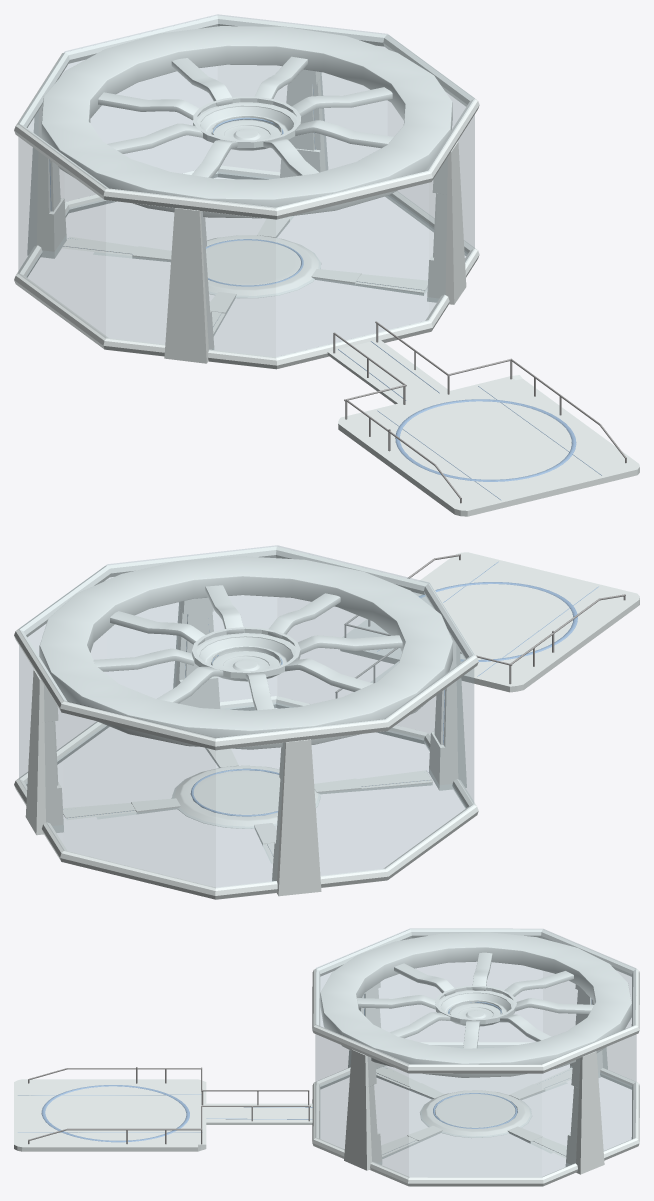
Rendered from RoomProjectsPlatform.glb.
3 renders of one model, top to bottom at view 1: azimuth 30°, elevation 25°; view 2: azimuth 150°, elevation 25°; view 3: azimuth 270°, elevation 25°, orthographic. The views are drawn at different scales.
Parts seen in each view (by area): view 1: Cylinder, Techo, Cube, Torus.003, Torus.005, Cube.032, Base_Baja, Cube.038, Luz_Alta, Cube.003, Cube.018, Cube.001 (+11 smaller); view 2: Cylinder, Techo, Cube, Torus.003, Torus.005, Cube.018, Base_Baja, Cube.001, Luz_Alta, Cube.032, Cube.038, Cube.036 (+11 smaller); view 3: Cylinder, Techo, Cube, Torus.003, Torus.005, Base_Baja, Cube.001, Cube.038, Luz_Alta, Cube.003, Torus.004, Cube.036 (+14 smaller).
Part boxes in pixels (x1,y1,x2,y2): Cylinder: (18, 14, 474, 357); Techo: (41, 26, 452, 218); Cube: (338, 375, 639, 516); Torus.003: (14, 15, 479, 219); Torus.005: (14, 165, 479, 369); Cube.032: (164, 208, 214, 363); Base_Baja: (206, 235, 321, 298); Cube.038: (427, 141, 466, 304); Luz_Alta: (193, 96, 301, 150); Cube.003: (327, 339, 447, 404); Cube.018: (27, 104, 66, 258); Cube.001: (280, 69, 328, 177); Cylinder: (19, 545, 473, 887); Techo: (39, 556, 452, 749); Cube: (340, 552, 639, 692); Torus.003: (14, 546, 478, 750); Torus.005: (14, 696, 478, 899); Cube.018: (272, 739, 321, 896); Base_Baja: (172, 765, 320, 828); Cube.001: (25, 669, 63, 835); Luz_Alta: (192, 627, 300, 681); Cube.032: (428, 635, 466, 790); Cube.038: (173, 597, 220, 708); Cube.036: (314, 770, 432, 794); Cylinder: (315, 928, 636, 1177); Techo: (320, 932, 631, 1077); Cube: (14, 1079, 206, 1151); Torus.003: (312, 929, 639, 1073); Torus.005: (312, 1042, 639, 1186); Base_Baja: (420, 1090, 531, 1137); Cube.001: (565, 1051, 604, 1174); Cube.038: (344, 1049, 382, 1170); Luz_Alta: (435, 985, 516, 1026); Cube.003: (206, 1103, 312, 1124); Torus.004: (41, 1085, 189, 1142); Cube.036: (376, 1065, 444, 1099).
Bounding box in the file's own units: 126 × 52.12 × 241.
